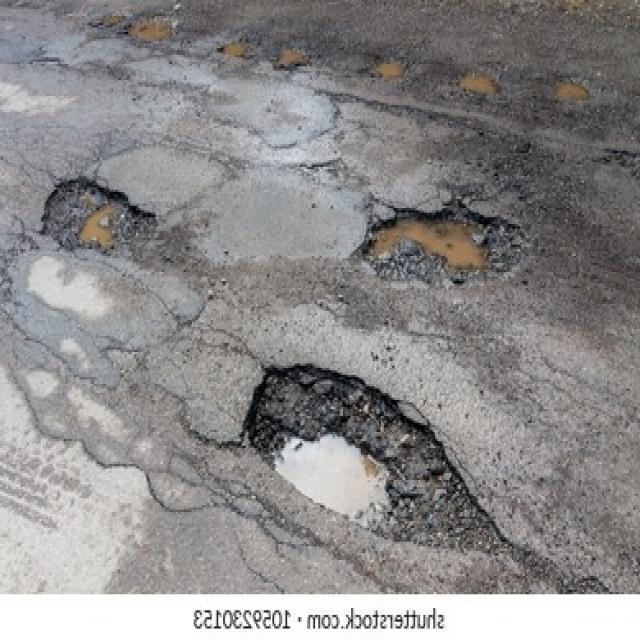pothole: (246, 361, 492, 549), (352, 199, 529, 286), (39, 176, 161, 256)
